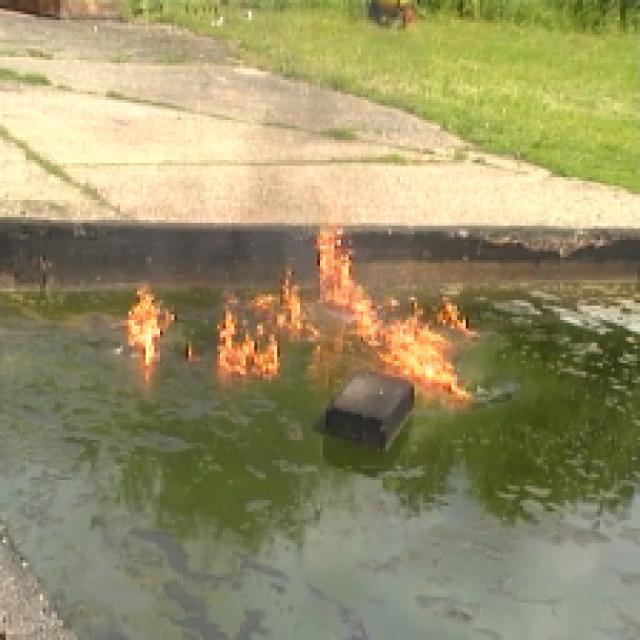Fire: (117, 272, 473, 380), (316, 218, 360, 273)
